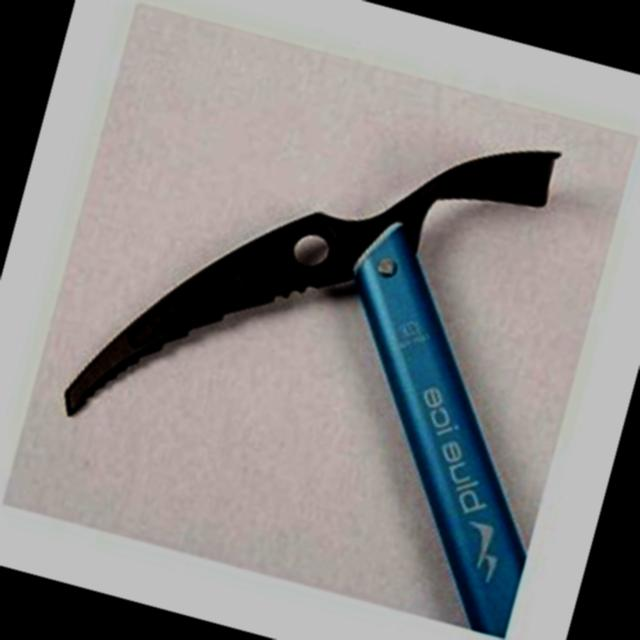ax: (27, 29, 632, 638)
